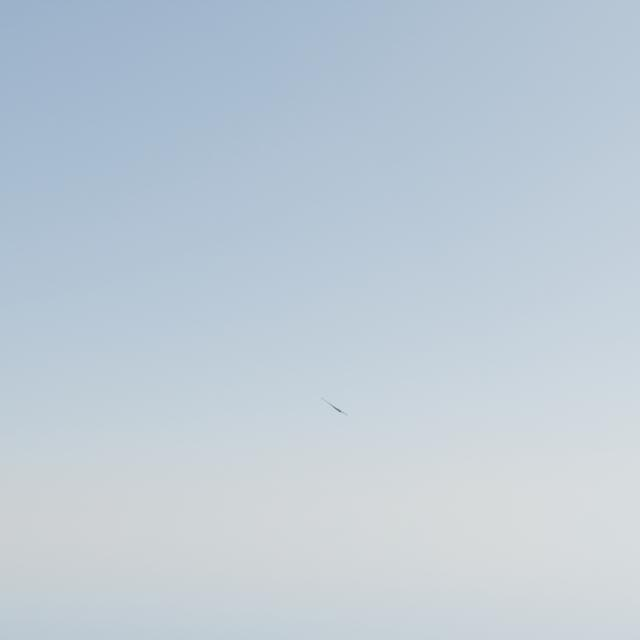Airaplan: (321, 398, 348, 416)
